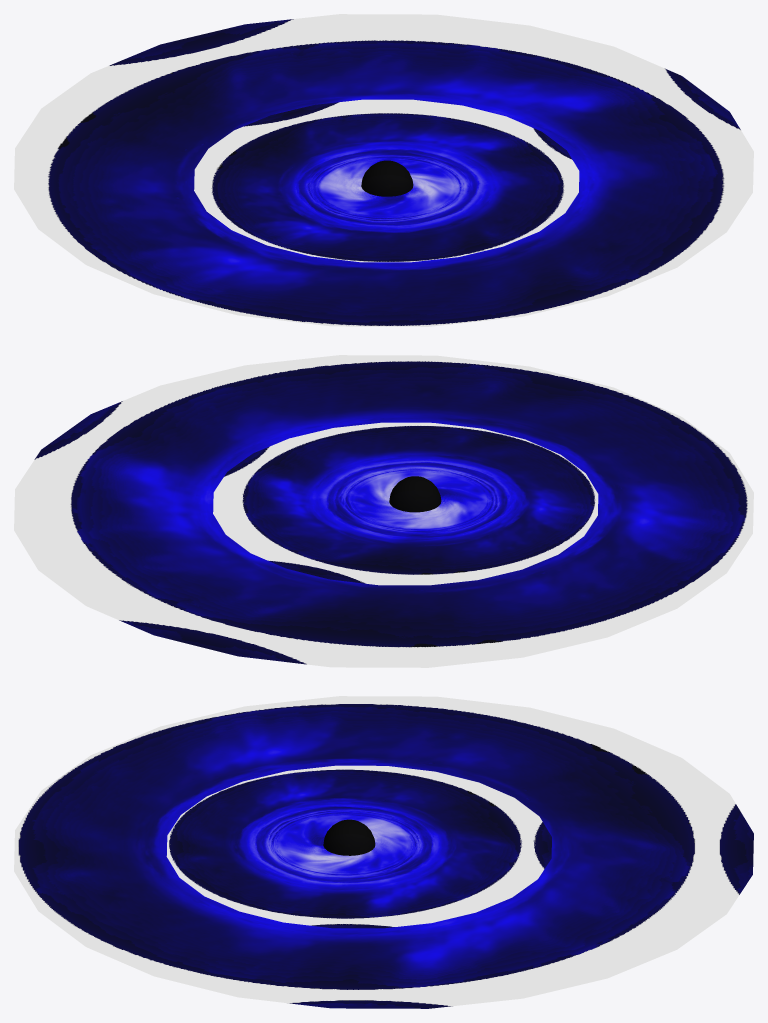
3 views of the same model, one above another, from view 1: azimuth 30°, elevation 25°; view 2: azimuth 150°, elevation 25°; view 3: azimuth 270°, elevation 25° (orthographic).
Visible parts, largest first — view 1: Regular_Black_Hole_Ring (×2), SketchUp; view 2: Regular_Black_Hole_Ring (×2), SketchUp; view 3: Regular_Black_Hole_Ring (×2), SketchUp.
Part boxes in pixels (x1=…): Regular_Black_Hole_Ring (×2): x1=14, y1=14, x2=753, y2=326; SketchUp: x1=361, y1=160, x2=413, y2=196; Regular_Black_Hole_Ring (×2): x1=14, y1=355, x2=753, y2=667; SketchUp: x1=389, y1=476, x2=441, y2=512; Regular_Black_Hole_Ring (×2): x1=14, y1=696, x2=753, y2=1008; SketchUp: x1=323, y1=819, x2=375, y2=855.
Size of the model in its own units: 422115 by 422115 by 29751.
5 materials, 1 textured.
